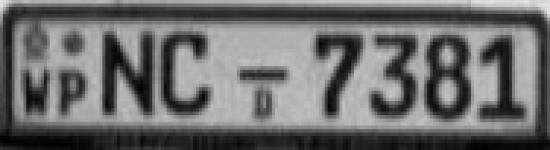-: (234, 62, 293, 88)
1: (476, 22, 532, 128)
7: (314, 25, 368, 123), (366, 26, 421, 122)
8: (422, 24, 475, 122)
C: (158, 24, 219, 118)
N: (98, 25, 158, 120)
P: (57, 64, 89, 118)
W: (21, 67, 53, 120)
